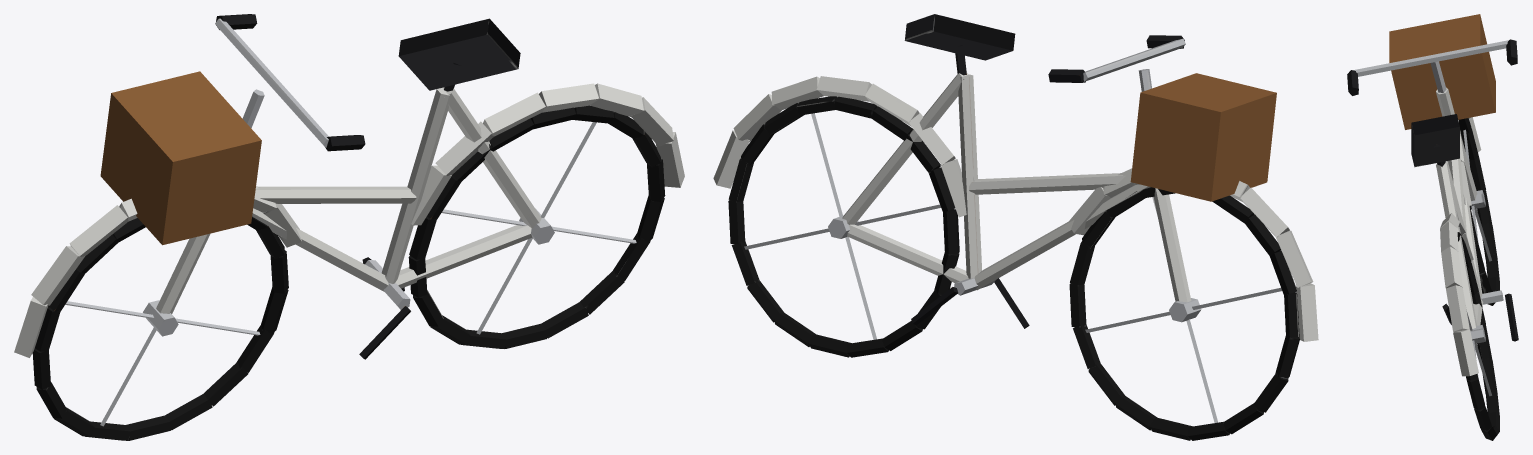
Rendered from kolo_19227a85.glb.
3 renders of one model, left to right at view 1: azimuth 30°, elevation 25°; view 2: azimuth 150°, elevation 25°; view 3: azimuth 270°, elevation 25°, orthographic. The views are drawn at different scales.
Parts seen in each view (by area): view 1: dum; view 2: dum; view 3: dum.
Boxes of the visible parts, x1,y1,x2,y2 form: dum: (14, 14, 684, 440); dum: (713, 14, 1318, 440); dum: (1347, 14, 1518, 440).
Bounding box in the file's own units: 1.95 × 1.09 × 0.5905.
Materials: 1 (1 with a texture image).
